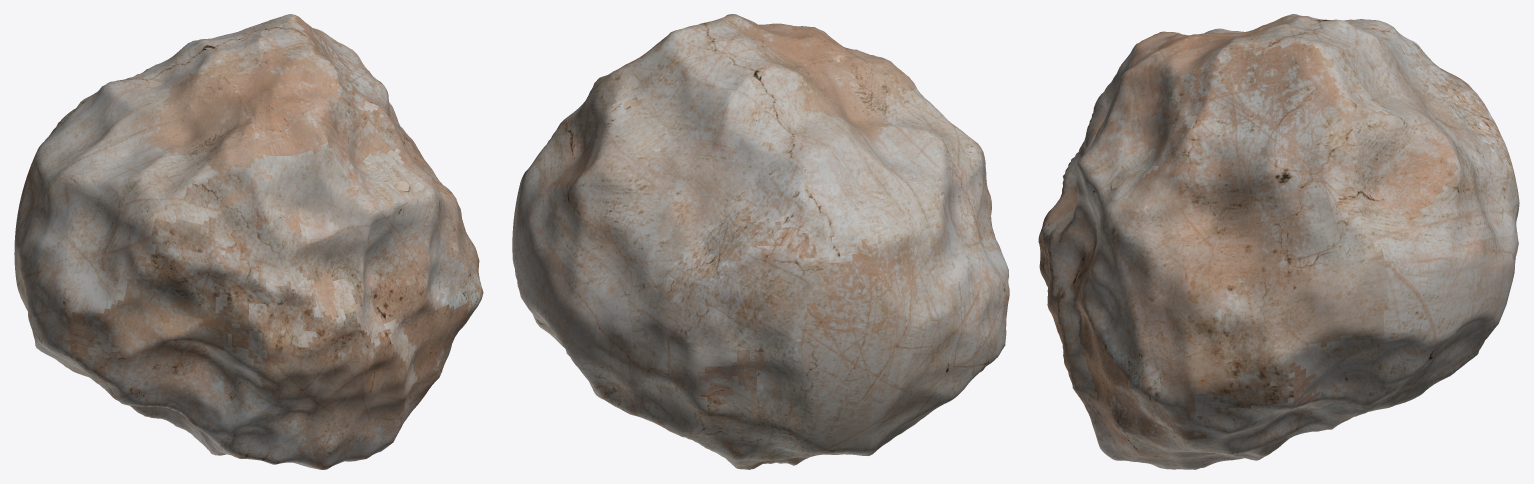
The model's file is Mountains3.fbx.
3 views of the same model, side by side, from view 1: azimuth 30°, elevation 25°; view 2: azimuth 150°, elevation 25°; view 3: azimuth 270°, elevation 25° (orthographic). The views are drawn at different scales.
Visible parts, largest first — view 1: Landscape; view 2: Landscape; view 3: Landscape.
Boxes of the visible parts, x1,y1,x2,y2 form: Landscape: (14, 14, 483, 469); Landscape: (512, 14, 1009, 469); Landscape: (1038, 14, 1519, 469).
Size of the model in its own units: 2101 by 1894 by 1892.
